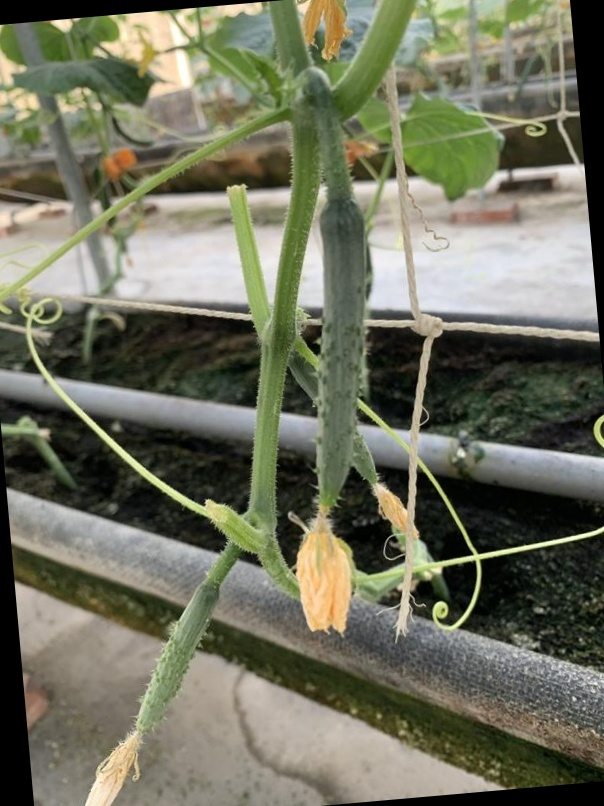bear: (13, 579, 235, 806)
growth: (286, 192, 388, 628)
